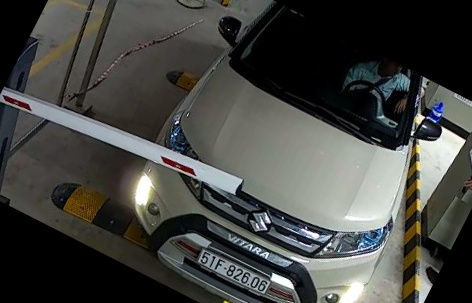plate: (192, 245, 279, 299)
